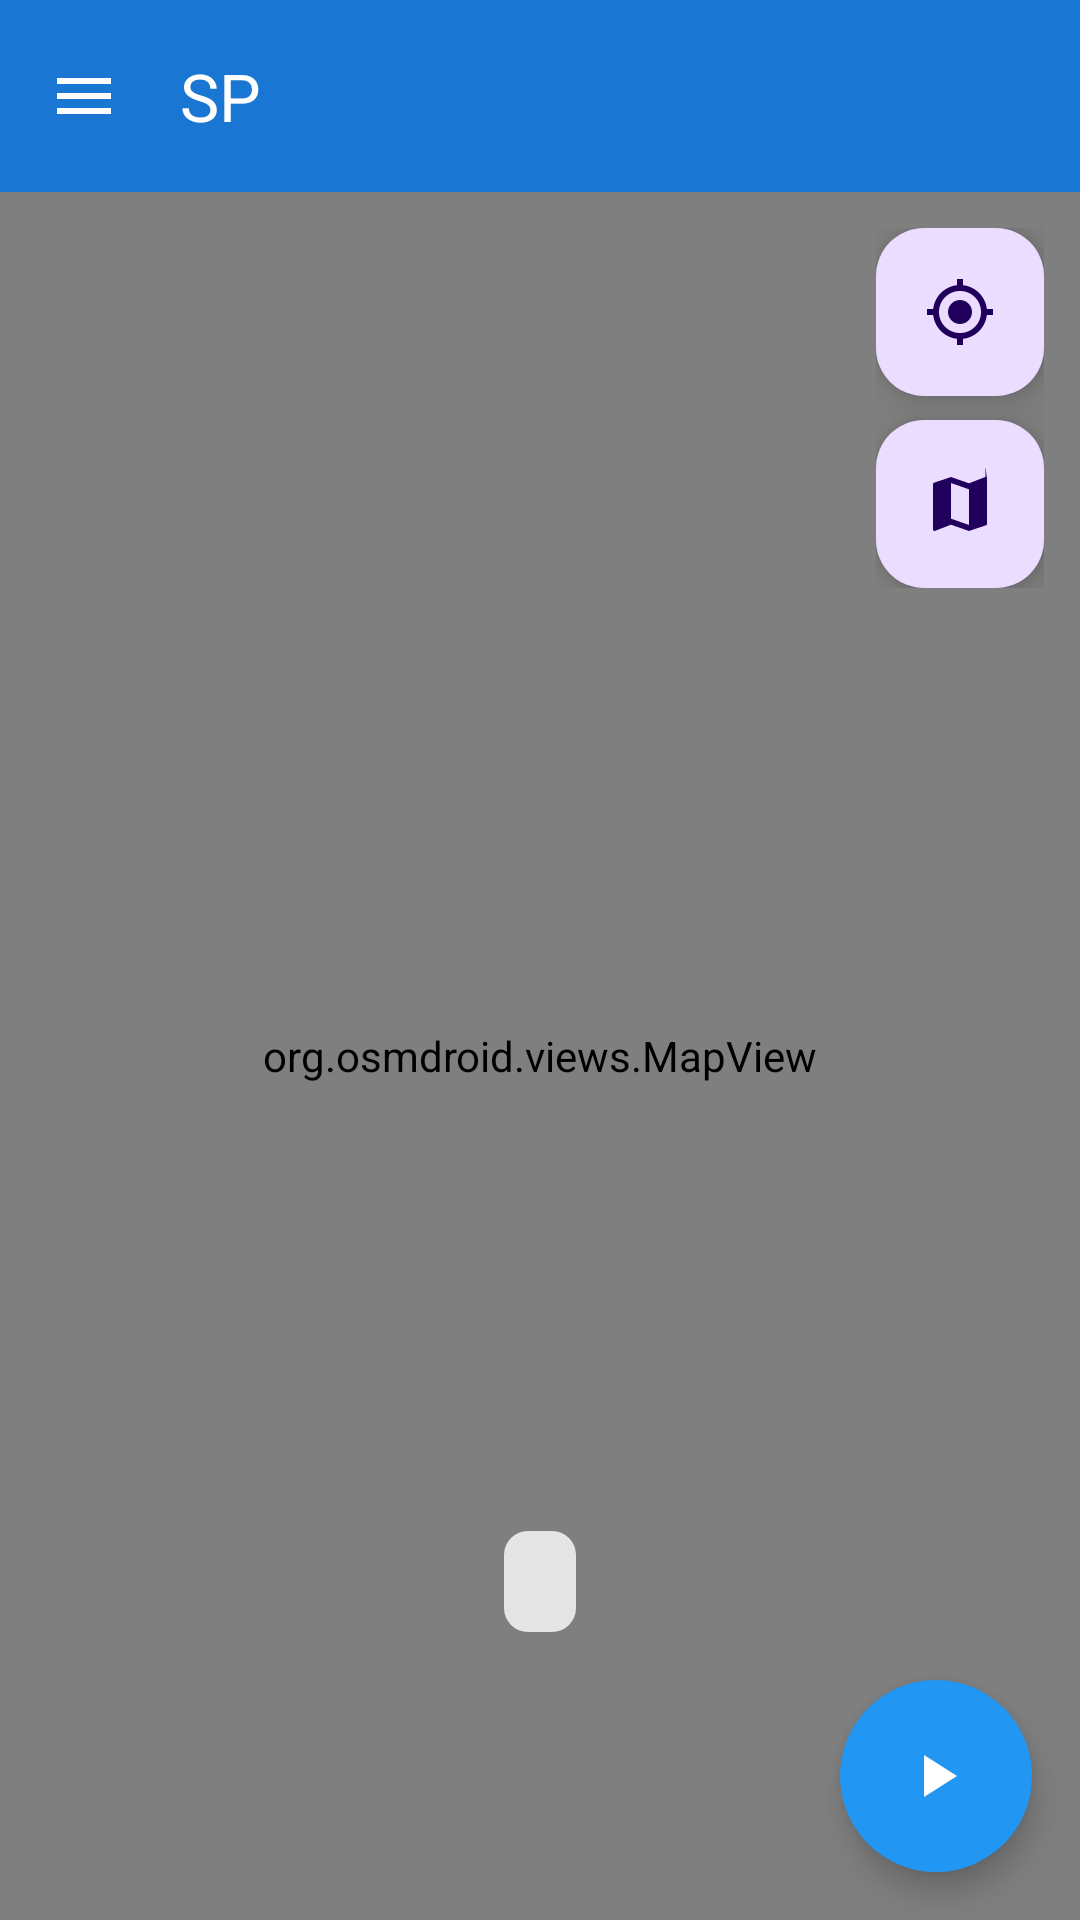

Where to tap for icons on this 1080×1920 app screen, as (x,y):
Change View: (960,504)
My location: (960,312)
Start Mocking: (936,1776)
